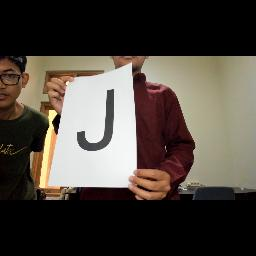j: (70, 88, 122, 162)
